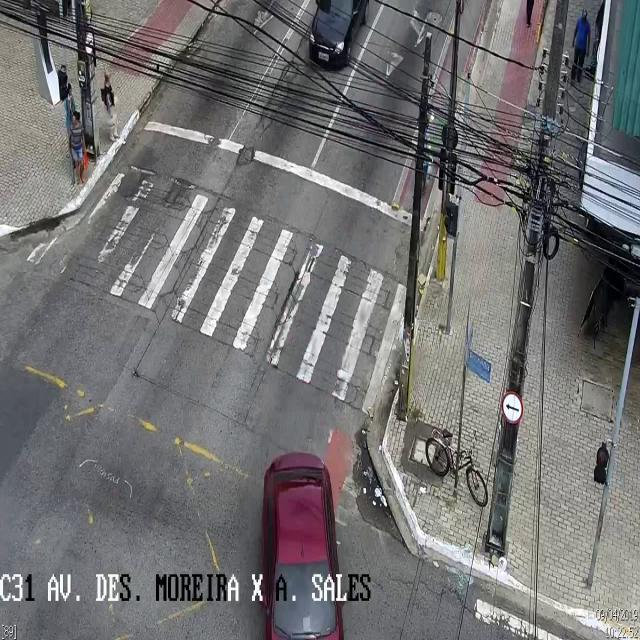Car: (262, 453, 343, 639), (309, 1, 369, 70)
